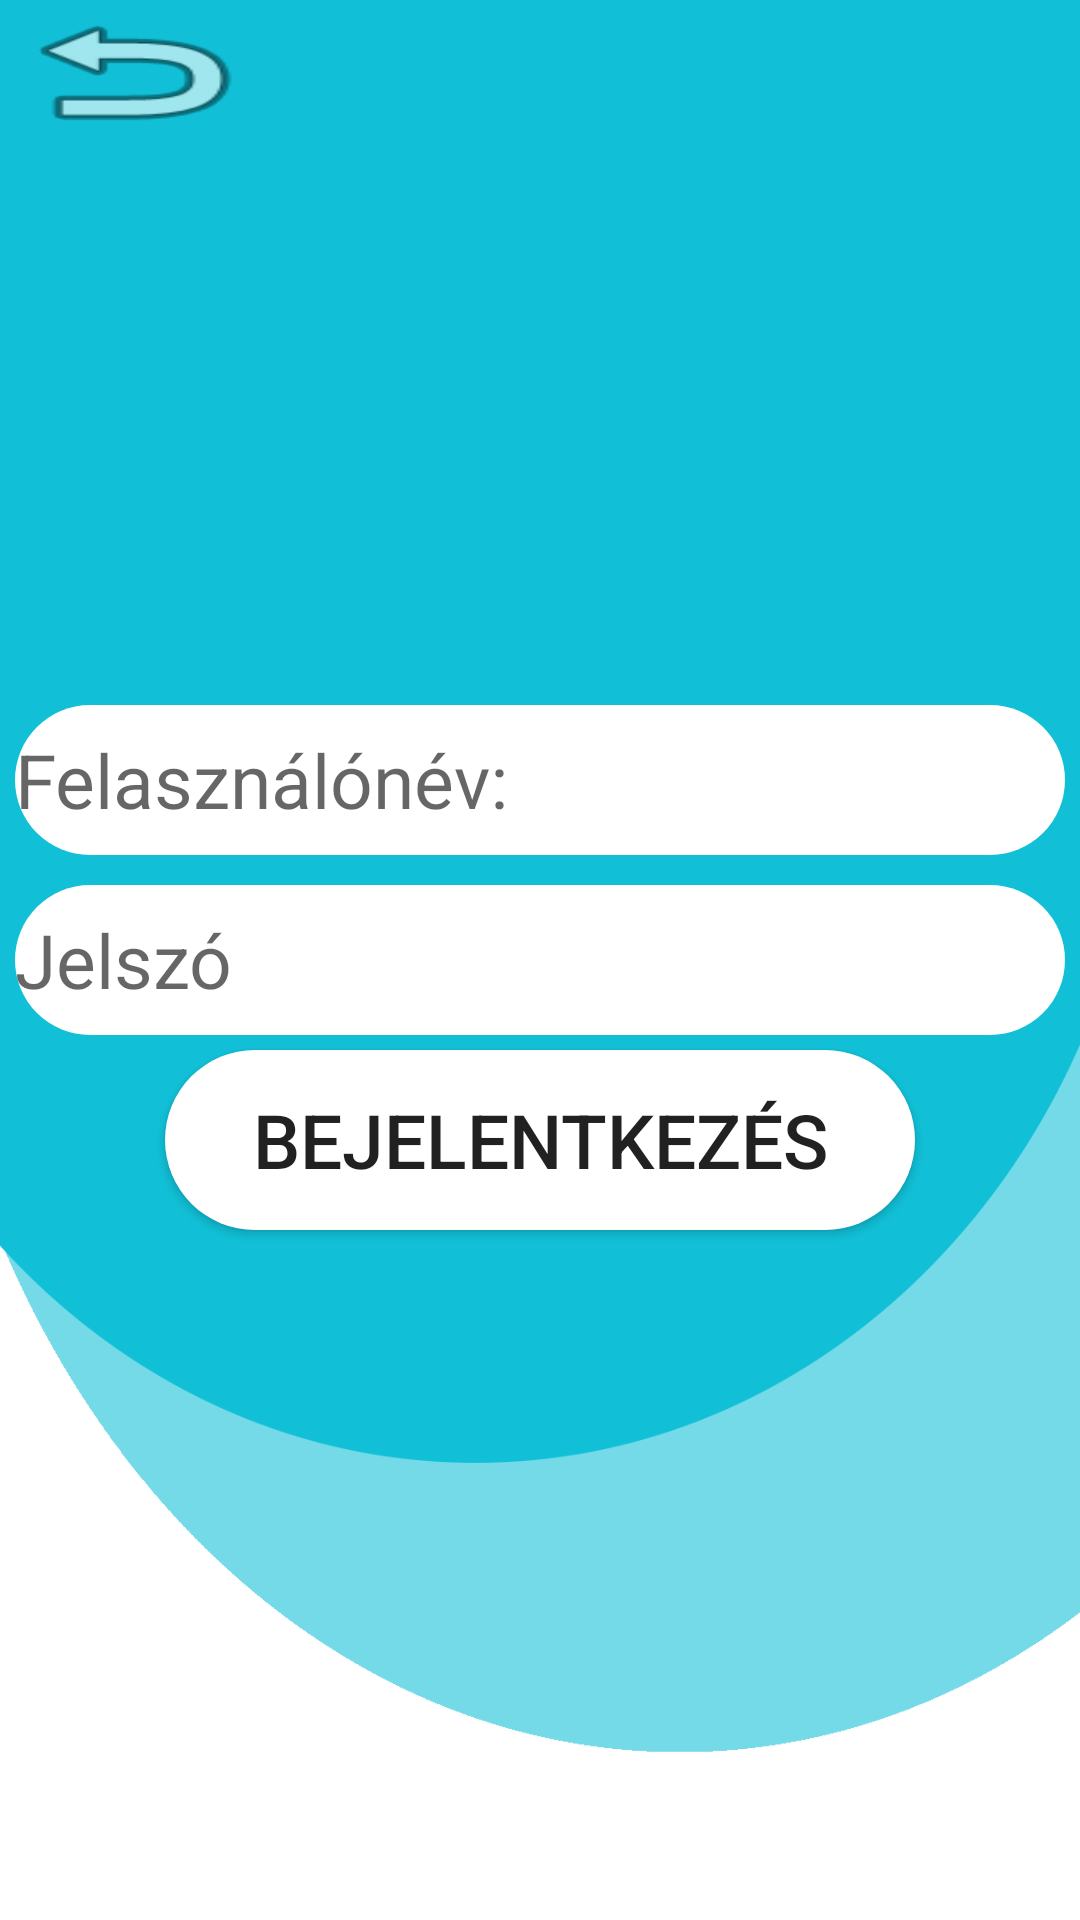

Where icons sit on this 1080 × 1920 app screen, as (x1, y1, x2, y2):
revert: (40, 26, 231, 120)
